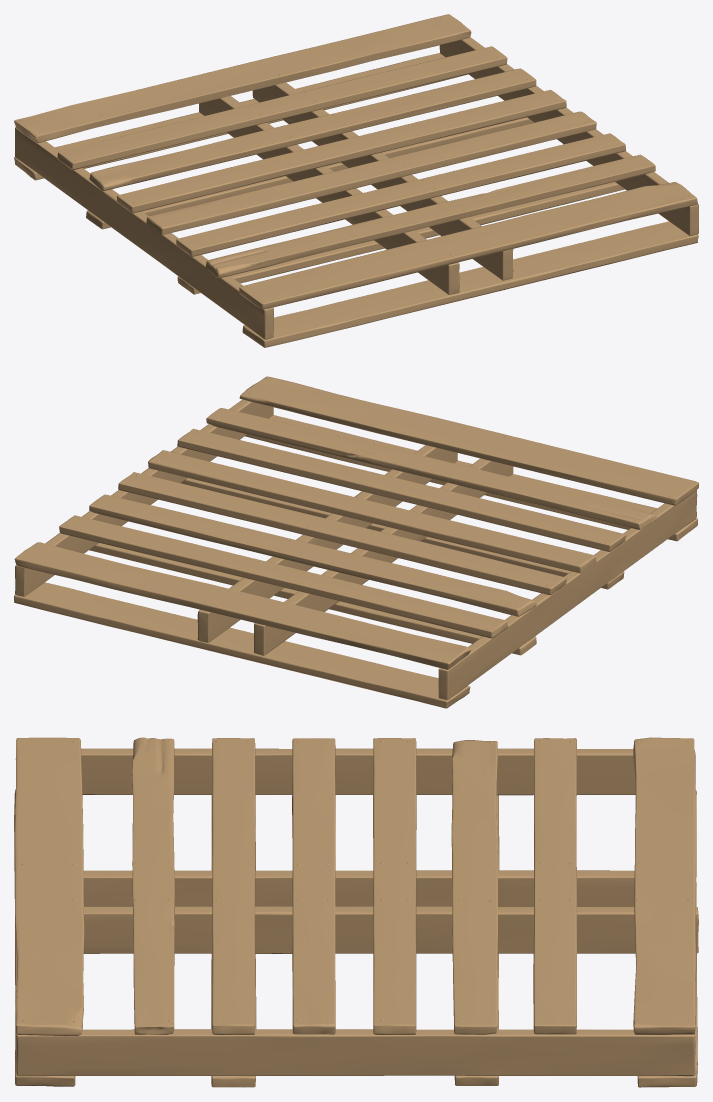
File: pallet_drum_wood_recycled_a05.glb
The picture shows the model from 3 angles, top to bottom: view 1: azimuth 30°, elevation 25°; view 2: azimuth 150°, elevation 25°; view 3: azimuth 270°, elevation 25°; orthographic projection. The views are drawn at different scales.
Bounding box in the file's own units: 1.2 × 0.1212 × 1.2.
